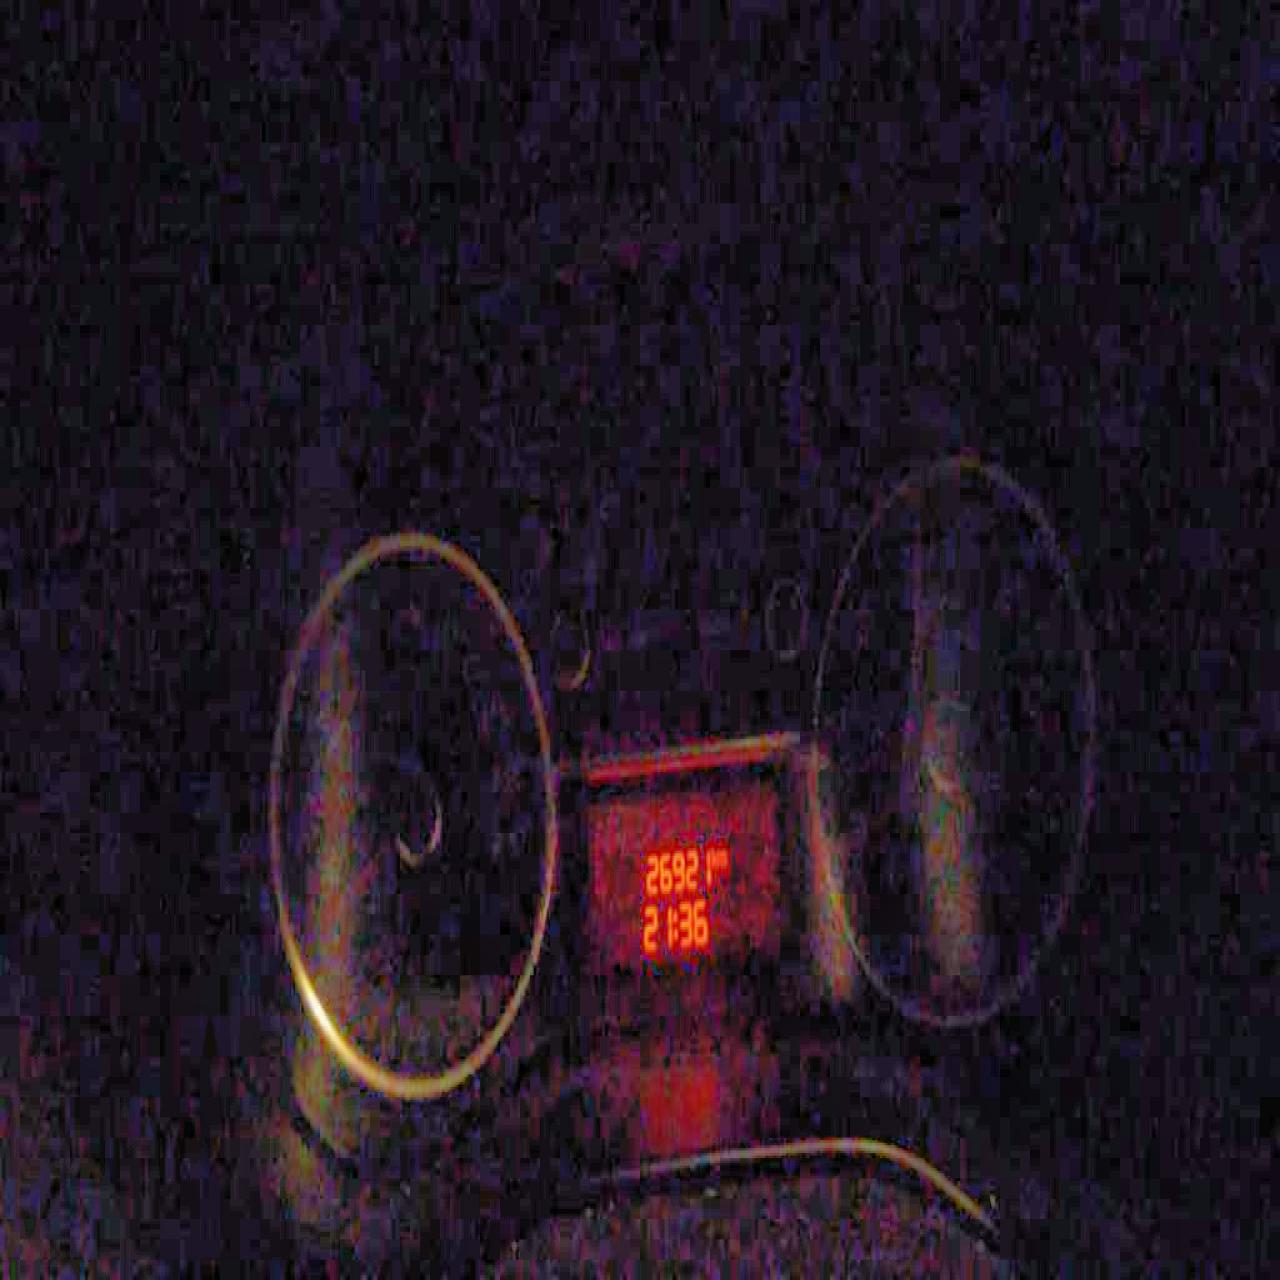1: (663, 899, 672, 952), (702, 846, 710, 888)
2: (641, 899, 659, 952), (642, 845, 658, 897), (685, 843, 699, 892)
3: (678, 894, 692, 949)
6: (692, 894, 708, 945), (659, 846, 672, 894)
9: (673, 846, 686, 894)
X: (715, 846, 726, 866), (672, 904, 676, 942), (710, 843, 715, 869)
odometer: (574, 736, 797, 988)
